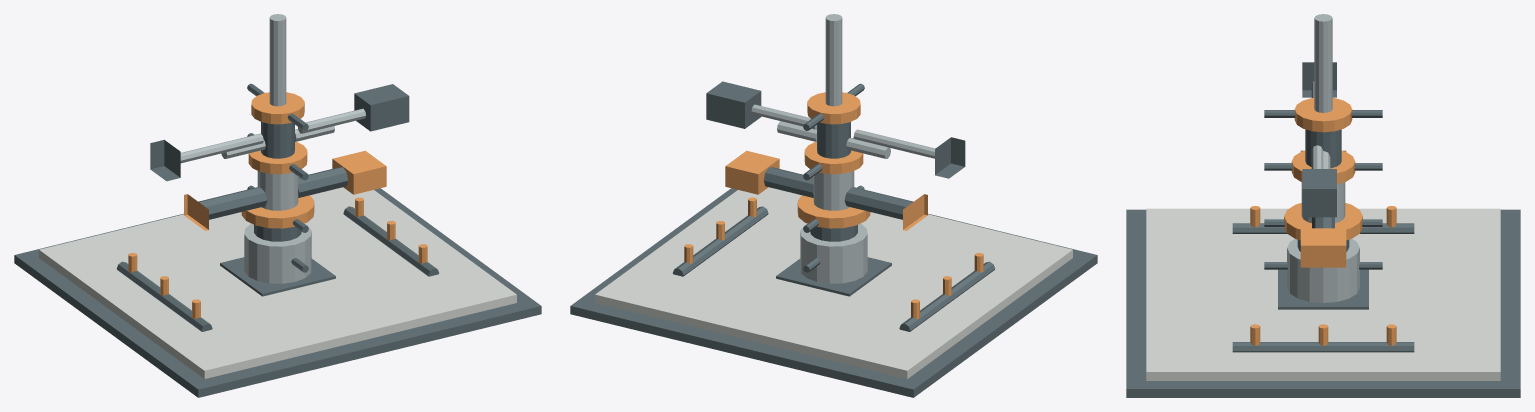
Rendered from selected_surface_wellhead.glb.
3 views of the same model, side by side, from view 1: azimuth 30°, elevation 25°; view 2: azimuth 150°, elevation 25°; view 3: azimuth 270°, elevation 25° (orthographic). The views are drawn at different scales.
Visible parts, largest first — view 1: Representational selected offset wellhead · material 4, Representational selected offset wellhead · material 1, Representational selected offset wellhead · material 0, Representational selected offset wellhead · material 2; view 2: Representational selected offset wellhead · material 4, Representational selected offset wellhead · material 1, Representational selected offset wellhead · material 0, Representational selected offset wellhead · material 2; view 3: Representational selected offset wellhead · material 4, Representational selected offset wellhead · material 1, Representational selected offset wellhead · material 2, Representational selected offset wellhead · material 0.
Boxes of the visible parts, bbox=[...] form: Representational selected offset wellhead · material 4: bbox=[39, 187, 516, 378]; Representational selected offset wellhead · material 1: bbox=[14, 83, 541, 397]; Representational selected offset wellhead · material 0: bbox=[180, 14, 365, 283]; Representational selected offset wellhead · material 2: bbox=[128, 92, 427, 318]; Representational selected offset wellhead · material 4: bbox=[595, 187, 1072, 378]; Representational selected offset wellhead · material 1: bbox=[570, 81, 1097, 397]; Representational selected offset wellhead · material 0: bbox=[751, 14, 935, 283]; Representational selected offset wellhead · material 2: bbox=[684, 92, 983, 318]; Representational selected offset wellhead · material 4: bbox=[1146, 208, 1500, 380]; Representational selected offset wellhead · material 1: bbox=[1126, 62, 1520, 397]; Representational selected offset wellhead · material 2: bbox=[1250, 98, 1396, 345]; Representational selected offset wellhead · material 0: bbox=[1287, 14, 1359, 302].
Size of the model in its own units: 5.6 by 4.53 by 5.2.
